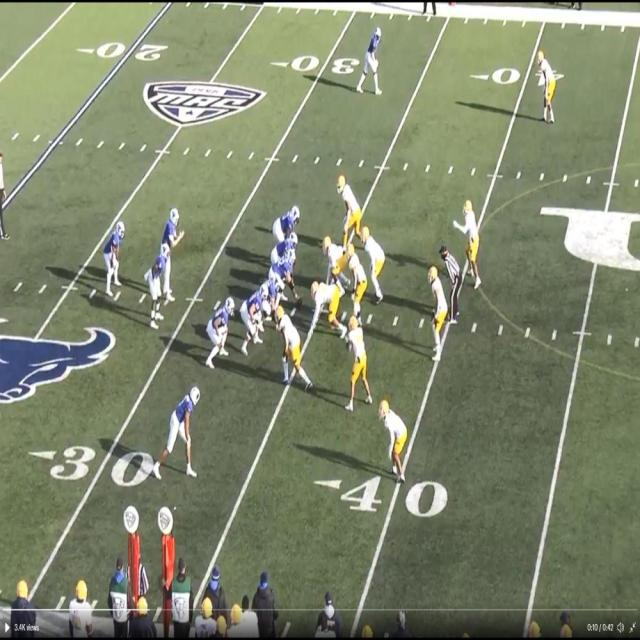center: (275, 246, 305, 310)
db: (382, 400, 408, 479), (425, 264, 445, 353), (463, 203, 482, 285), (537, 48, 556, 116)
lb: (346, 313, 371, 408), (362, 230, 387, 302), (348, 246, 367, 313), (322, 590, 342, 622)
qb: (162, 205, 180, 300)
skill: (166, 384, 202, 471), (210, 292, 232, 358), (106, 218, 124, 290), (367, 26, 384, 94), (147, 251, 162, 324)
